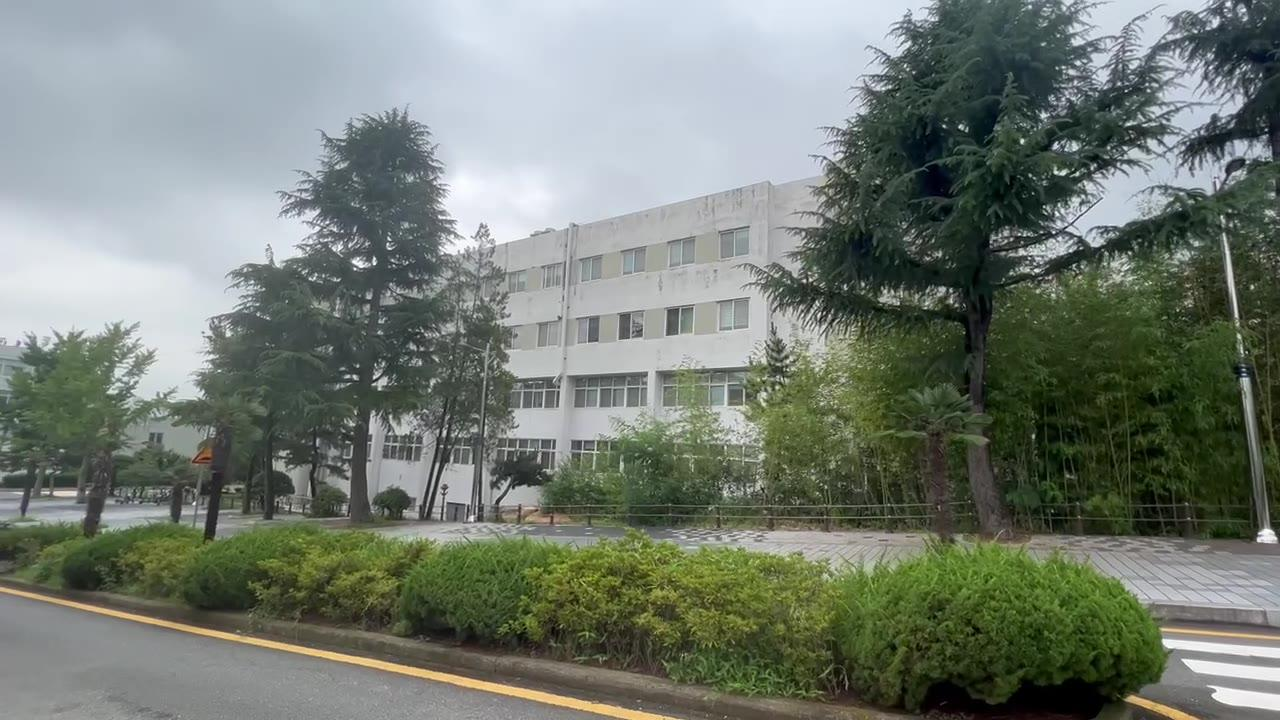building: (516, 192, 764, 430)
